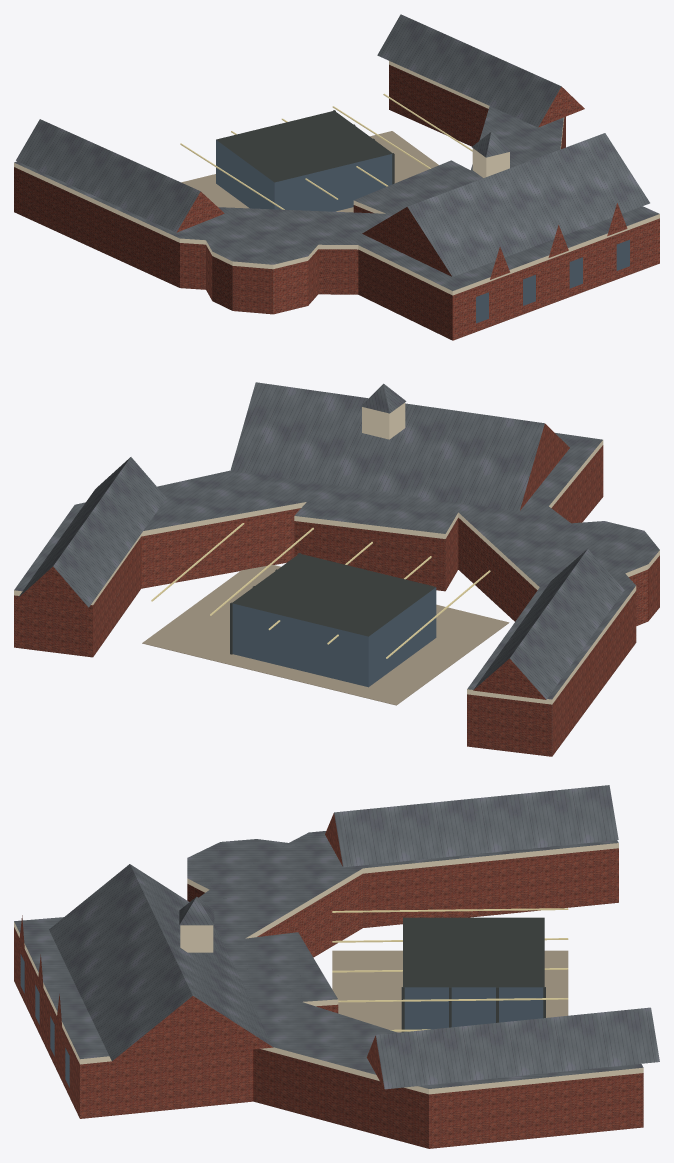
Rendered from tavern_on_the_green.glb.
3 views of the same model, one above another, from view 1: azimuth 30°, elevation 25°; view 2: azimuth 150°, elevation 25°; view 3: azimuth 270°, elevation 25° (orthographic). The views are drawn at different scales.
Visible parts, largest first — view 1: tavern_on_the_green; view 2: tavern_on_the_green; view 3: tavern_on_the_green.
Part boxes in pixels (<box>): tavern_on_the_green: <box>14,14,659,340</box>; tavern_on_the_green: <box>14,382,659,756</box>; tavern_on_the_green: <box>14,785,659,1148</box>.
Size of the model in its own units: 57.07 by 14.2 by 54.79.
3 materials, 3 textured.
